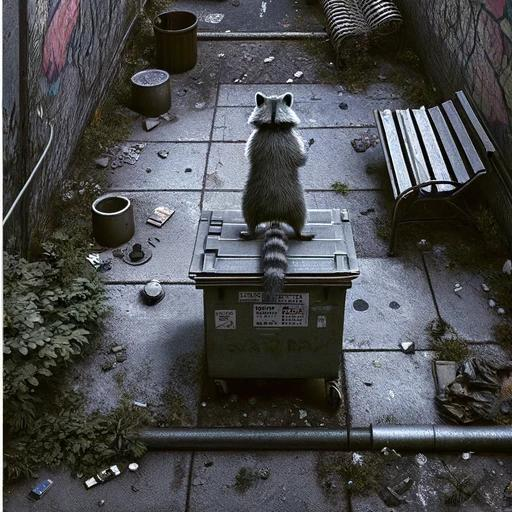raccoon: (232, 83, 320, 304)
